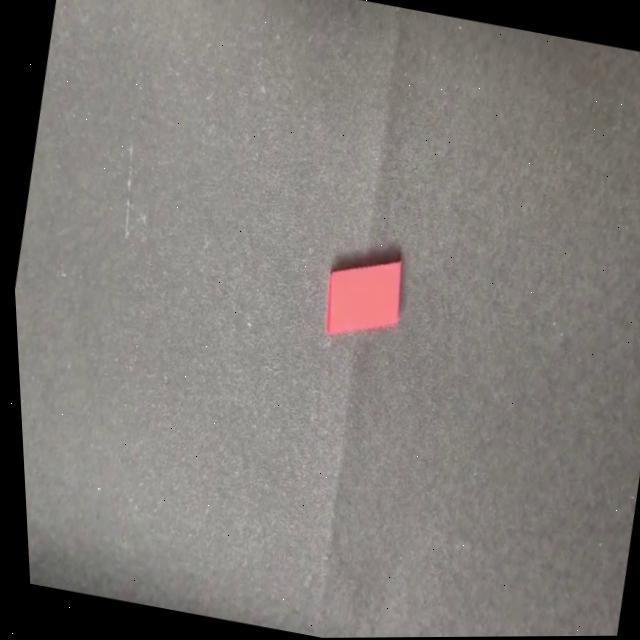red block: (316, 244, 414, 349)
